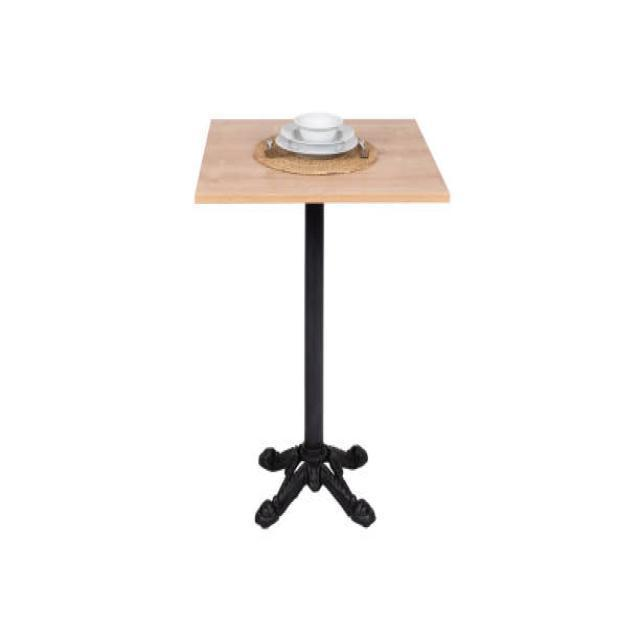table: (193, 114, 450, 530)
